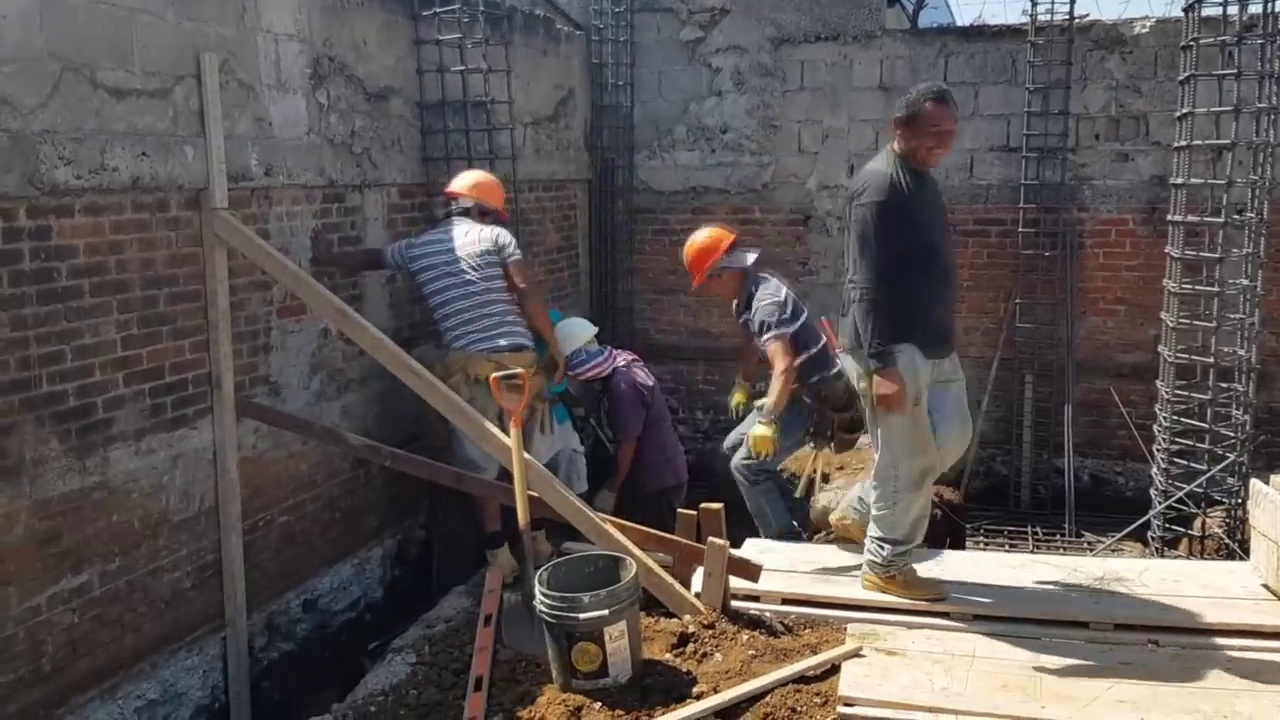helmet: (682, 218, 744, 293), (549, 313, 599, 366), (437, 173, 506, 211)
helmet-off: (897, 79, 968, 173)
helmet-on: (677, 214, 768, 314), (436, 165, 511, 233), (549, 311, 615, 375)
person: (304, 167, 584, 581), (845, 73, 968, 604), (673, 214, 861, 522), (543, 315, 677, 530)
